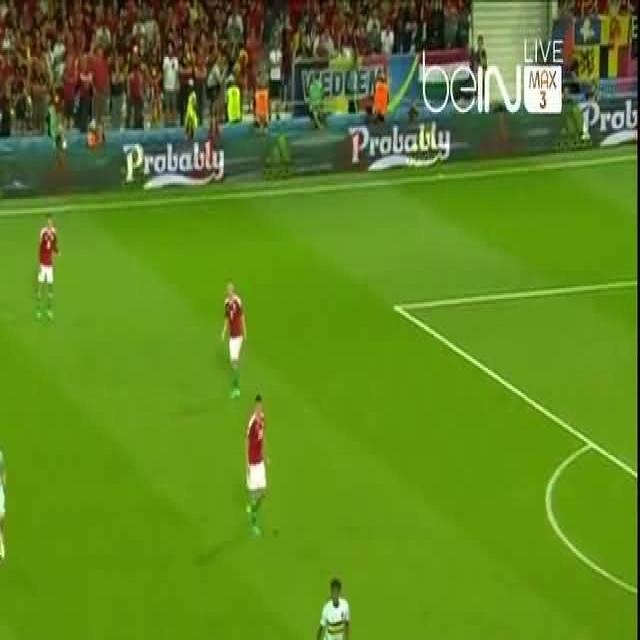player-white: (244, 392, 270, 534), (222, 278, 246, 404), (35, 214, 58, 324), (313, 577, 350, 640), (0, 428, 7, 568)
